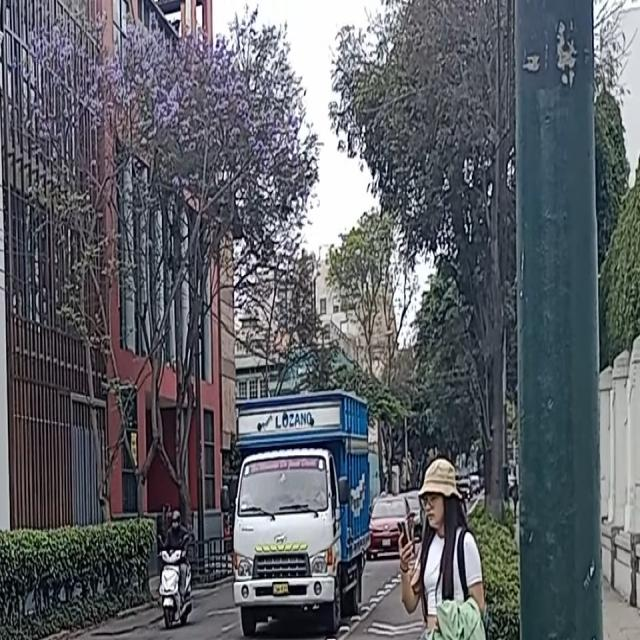car: (370, 498, 413, 554)
motorcycle: (156, 544, 193, 624)
truck: (232, 396, 370, 633)
